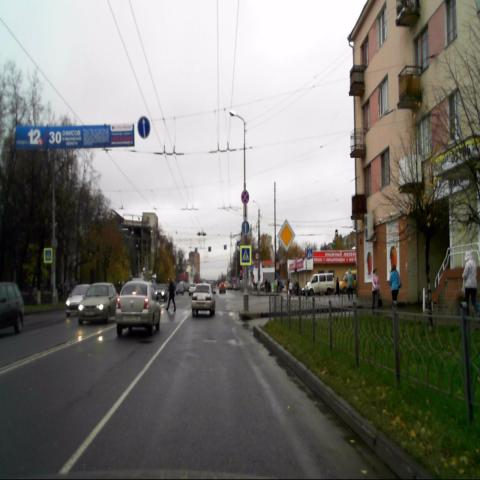4_1_1: (138, 116, 150, 138)
